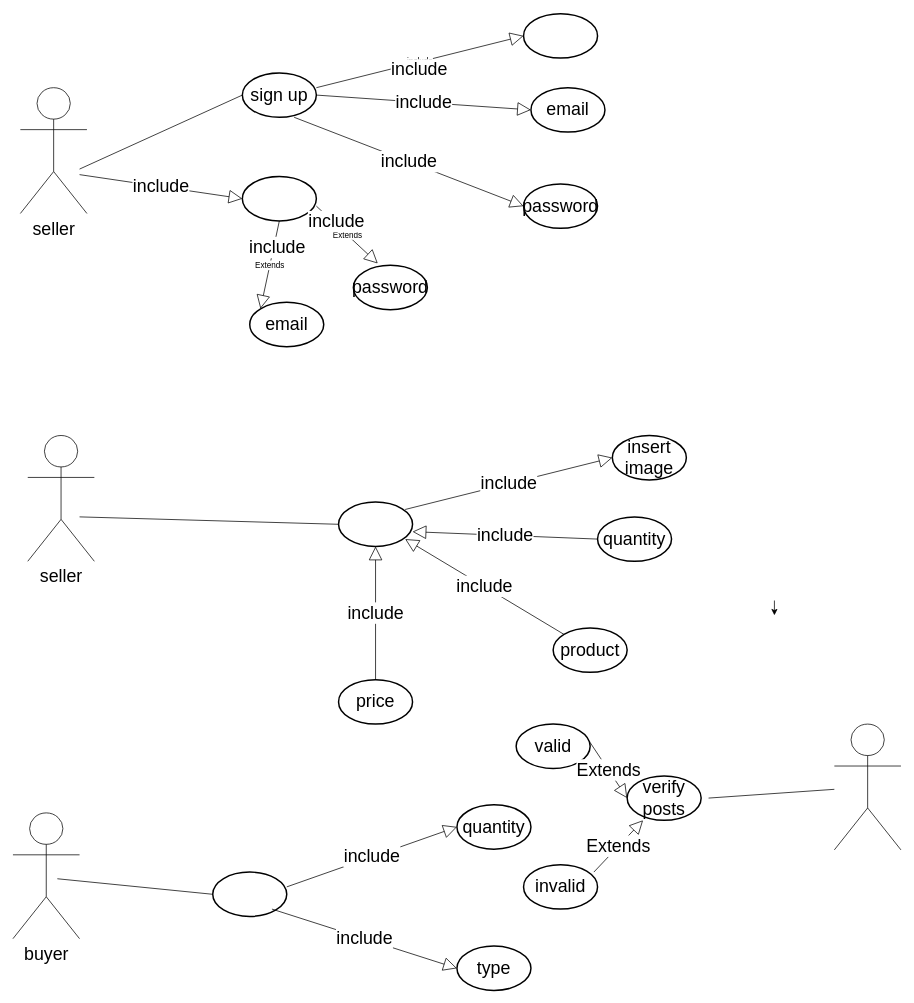
Some shapes in this 914 by 1003 pixel diagram are drawn without their labels. The shapes that lost their labels are listed below. From the top down, each one's centre as x and y in pixels, then its label:
the point at 560,35: name
the point at 279,198: login
the point at 375,524: post
the point at 867,786: admin
the point at 249,894: Order
